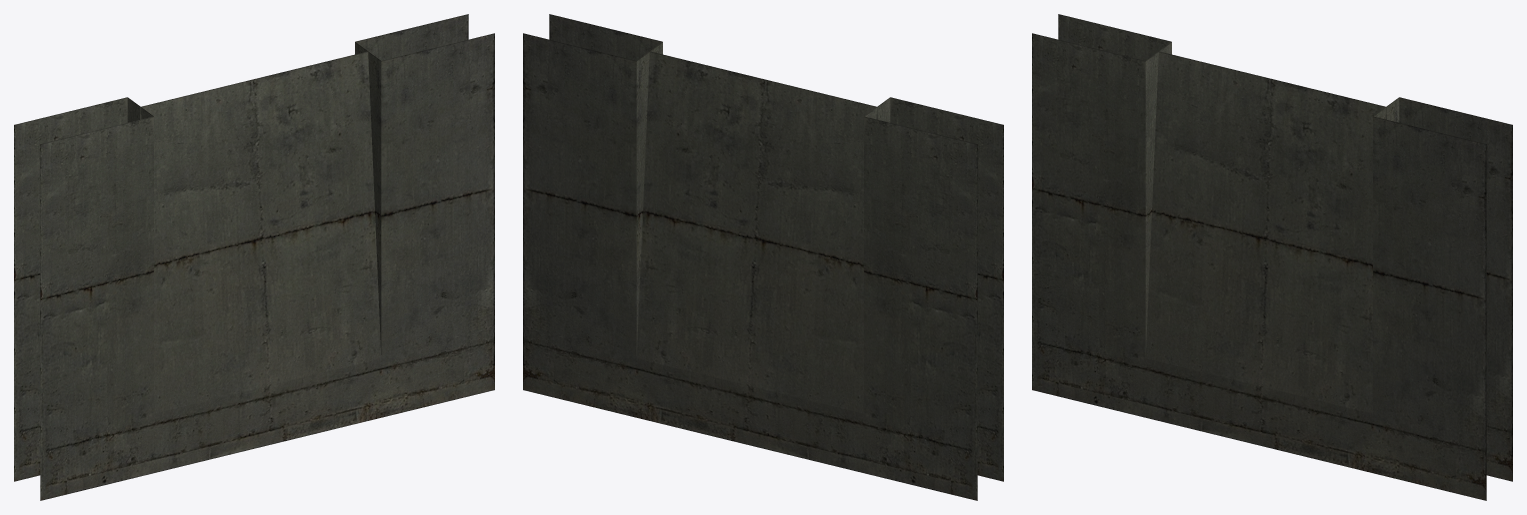
The model's file is wall_rg_1_t_1.obj.
3 views of the same model, side by side, from view 1: azimuth 30°, elevation 25°; view 2: azimuth 150°, elevation 25°; view 3: azimuth 330°, elevation 25° (orthographic).
Parts seen in each view (by area): view 1: wall_rg_1_t_1; view 2: wall_rg_1_t_1; view 3: wall_rg_1_t_1.
Part boxes in pixels (<box>): wall_rg_1_t_1: <box>14,14,494,500</box>; wall_rg_1_t_1: <box>523,14,1003,500</box>; wall_rg_1_t_1: <box>1032,14,1512,500</box>.
Size of the model in its own units: 4 by 3 by 0.4.
